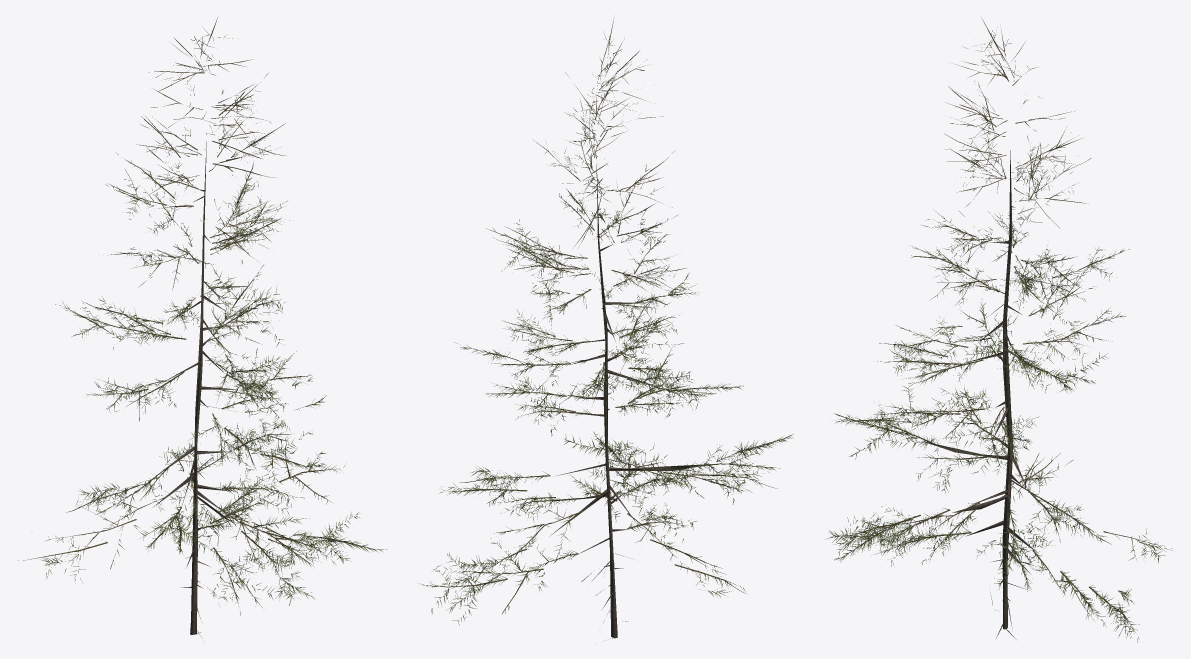
File: fir-sapling-medium-b.glb
3 views of the same model, side by side, from view 1: azimuth 30°, elevation 25°; view 2: azimuth 150°, elevation 25°; view 3: azimuth 270°, elevation 25° (orthographic). The views are drawn at different scales.
Visible parts, largest first — view 1: fir_sapling_medium_b_LOD0; view 2: fir_sapling_medium_b_LOD0; view 3: fir_sapling_medium_b_LOD0.
Boxes of the visible parts, box(x1,y1,x2,y2) form: fir_sapling_medium_b_LOD0: box(18, 17, 386, 637); fir_sapling_medium_b_LOD0: box(419, 17, 793, 638); fir_sapling_medium_b_LOD0: box(825, 19, 1172, 642).
Size of the model in its own units: 4.11 by 7.65 by 3.89.
Materials: 3 (3 with a texture image).
